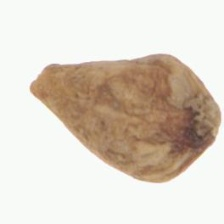L1: (182, 90, 222, 147), (29, 62, 58, 102)
L2: (30, 53, 222, 184)
